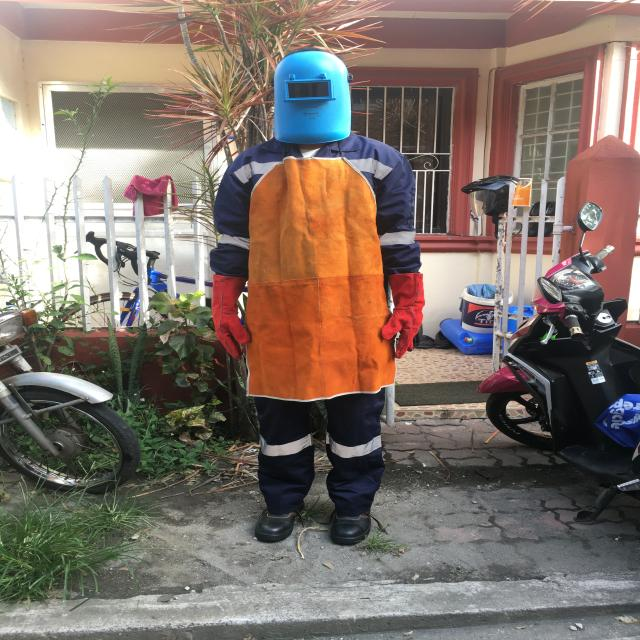with_helmet: (274, 50, 351, 144)
